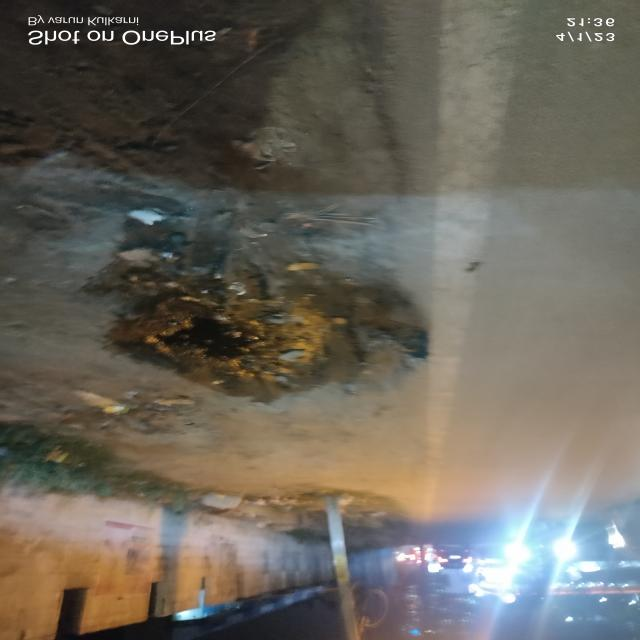Puddle pothole: (96, 198, 445, 412)
